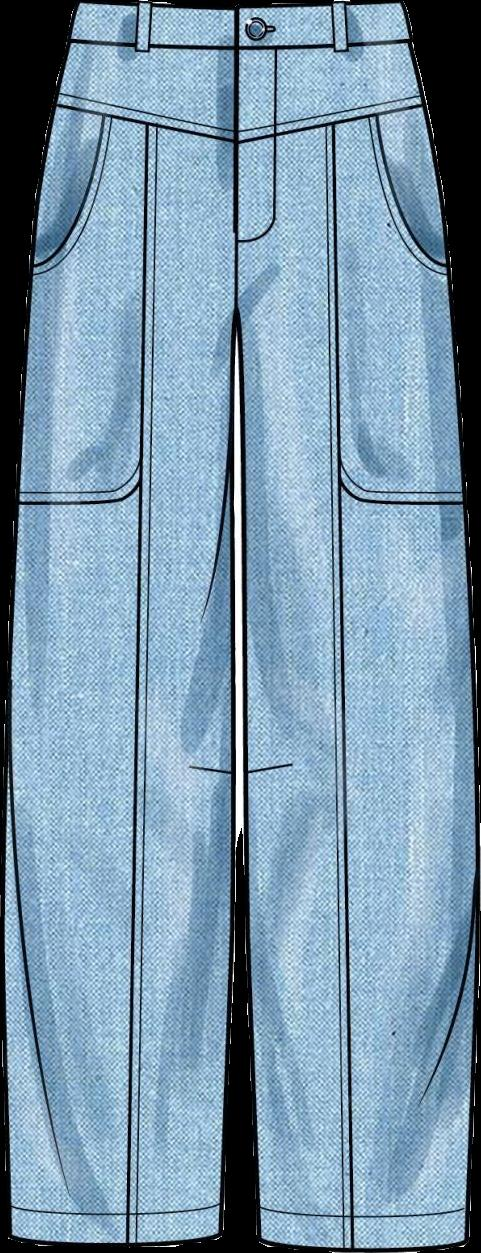Hemline: (9, 1219, 232, 1251), (254, 1229, 474, 1252)
Pantleg: (232, 0, 479, 1251), (5, 0, 237, 1243)
Waistline: (49, 92, 429, 148), (62, 30, 420, 62), (76, 0, 395, 18)
